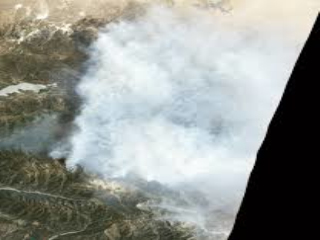smoke: (39, 8, 255, 217)
